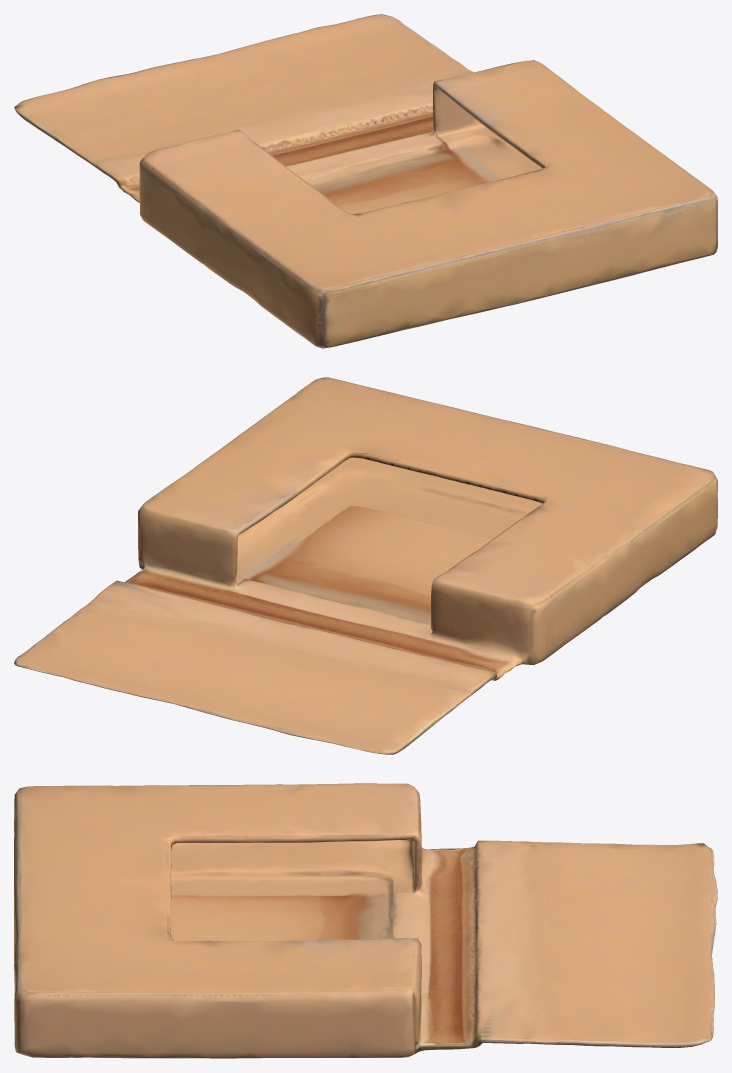
File: Phone_Box_TESTER_1028200216_texture.glb
3 views of the same model, one above another, from view 1: azimuth 30°, elevation 25°; view 2: azimuth 150°, elevation 25°; view 3: azimuth 270°, elevation 25° (orthographic). The views are drawn at different scales.
Visible parts, largest first — view 1: Mesh_0; view 2: Mesh_0; view 3: Mesh_0.
Part boxes in pixels (<box>): Mesh_0: <box>14,14,717,348</box>; Mesh_0: <box>14,377,717,754</box>; Mesh_0: <box>14,783,717,1058</box>.
Size of the model in its own units: 1.42 by 0.2154 by 1.99.
1 material, 1 textured.
